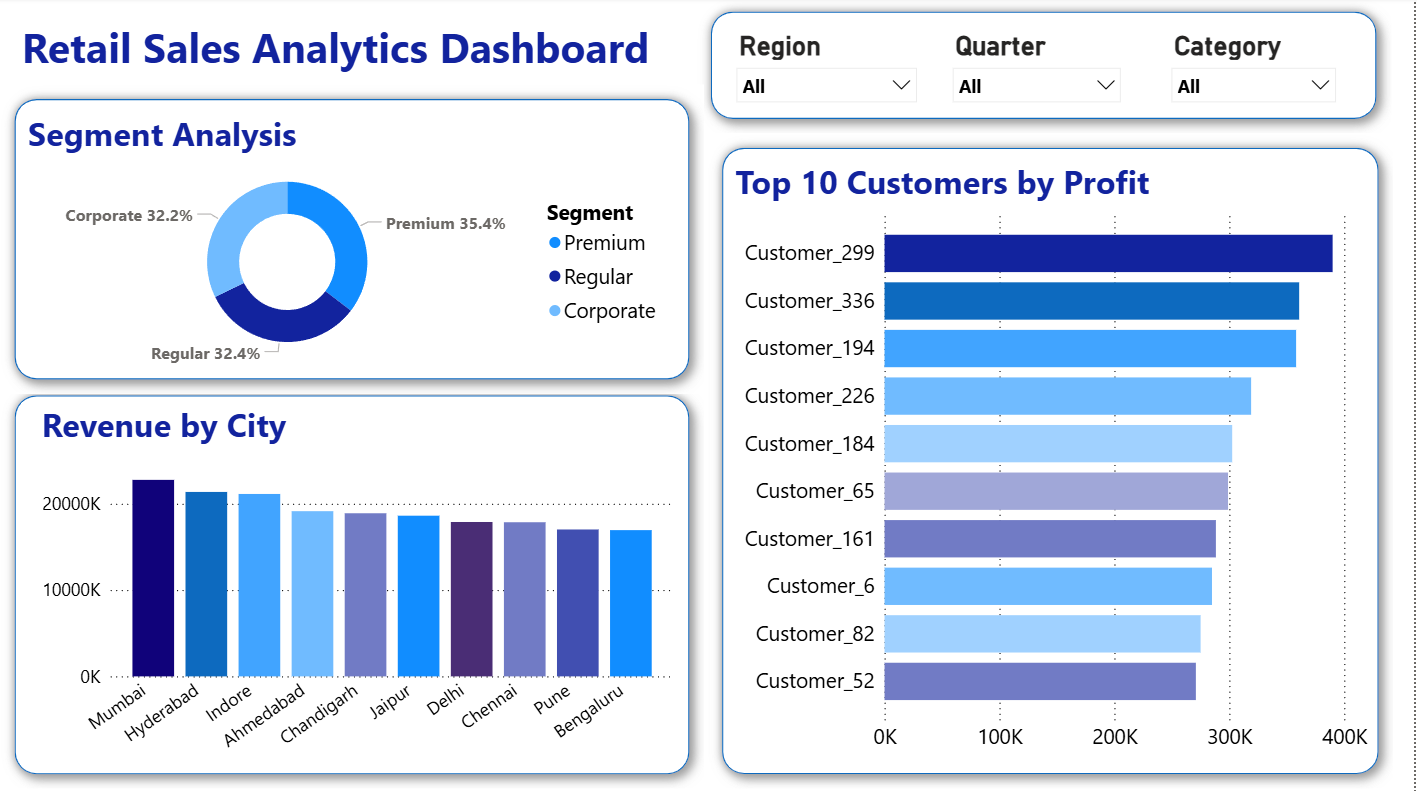

The page's visual inventory and layout, read from the dashboard file:
{"tool":"powerbi","page":{"name":"Customer Analysis","canvas":[1280,720],"ordinal":2},"visuals":[{"type":"group","id":"g1","title":"Group 1","box":[629.8,0,628.5,123.5],"z":0,"group":"g5"},{"type":"shape","box":[629.8,0,628.5,123.5],"z":0,"group":"g1"},{"type":"textbox","box":[15.1,15.1,592.8,74.1],"z":0,"group":"g9"},{"type":"group","id":"g2","title":"Group 1","box":[0,79.6,636.7,279.9],"z":0,"group":"g8"},{"type":"shape","box":[0,79.6,636.7,279.9],"z":0,"group":"g2"},{"type":"group","id":"g3","title":"Group 1","box":[639.5,123.5,620.2,592.8],"z":0,"group":"g6"},{"type":"shape","box":[639.5,123.5,620.2,592.8],"z":0,"group":"g3"},{"type":"group","id":"g4","title":"Group 1","box":[0,347.2,636.7,369.1],"z":0,"group":"g7"},{"type":"shape","box":[0,347.2,636.7,369.1],"z":0,"group":"g4"},{"type":"group","id":"g5","title":"Group 2","box":[629.8,0,628.5,123.5],"z":1000,"group":"g9"},{"type":"slicer","fields":{"Values":["Orders_Big.OrderDate.Variation.Date Hierarchy.Quarter"]},"box":[851.3,24.7,172.7,78.2],"z":1000,"group":"g5"},{"type":"donutChart","title":"Segment Analysis","fields":{"Y":["CountNonNull(Customers_Big.CustomerID)"],"Category":["Customers_Big.Segment"]},"box":[20.3,103.5,587.3,234.6],"z":1000,"group":"g8"},{"type":"barChart","title":"Top 10 Customers by Profit","fields":{"Y":["Orders_Big.Total Profit"],"Category":["Customers_Big.CustomerName"]},"box":[659.5,146.1,581.8,546.1],"z":1000,"group":"g6"},{"type":"columnChart","title":"Revenue by City  ","fields":{"Category":["Customers_Big.City"],"Y":["Sum(Orders_Big.Revenue)"]},"box":[33,366.8,581.8,329.4],"z":1000,"group":"g7"},{"type":"slicer","fields":{"Values":["Products_Big.Category"]},"box":[1049.2,24.7,168.9,79.6],"z":2000,"group":"g5"},{"type":"group","id":"g6","title":"Group 2","box":[639.5,123.5,620.2,592.8],"z":2000,"group":"g9"},{"type":"slicer","fields":{"Values":["Orders_Big.Region"]},"box":[656,24.7,183.4,74.1],"z":3000,"group":"g5"},{"type":"group","id":"g7","title":"Group 2","box":[0,347.2,636.7,369.1],"z":3000,"group":"g9"},{"type":"group","id":"g8","title":"Group 2","box":[0,79.6,636.7,279.9],"z":4000,"group":"g9"},{"type":"group","id":"g9","title":"Group 3","box":[0,0,1259.7,716.3],"z":4001}]}

Visuals, with their boxes in screenshot pixels (x1, y1, x2, y2), scaled from the page's 1280x720 canvas onto the 1417x791 screenshot:
"Group 1" group: 697/0/1393/136
shape: 697/0/1393/136
textbox: 17/17/673/98
"Group 1" group: 0/87/705/395
shape: 0/87/705/395
"Group 1" group: 708/136/1395/787
shape: 708/136/1395/787
"Group 1" group: 0/381/705/787
shape: 0/381/705/787
"Group 2" group: 697/0/1393/136
slicer - Orders_Big.OrderDate.Variation.Date Hierarchy.Quarter: 942/27/1134/113
"Segment Analysis" donutChart: 22/114/673/371
"Top 10 Customers by Profit" barChart: 730/161/1374/760
"Revenue by City  " columnChart: 37/403/681/765
slicer - Products_Big.Category: 1161/27/1348/115
"Group 2" group: 708/136/1395/787
slicer - Orders_Big.Region: 726/27/929/109
"Group 2" group: 0/381/705/787
"Group 2" group: 0/87/705/395
"Group 3" group: 0/0/1395/787
